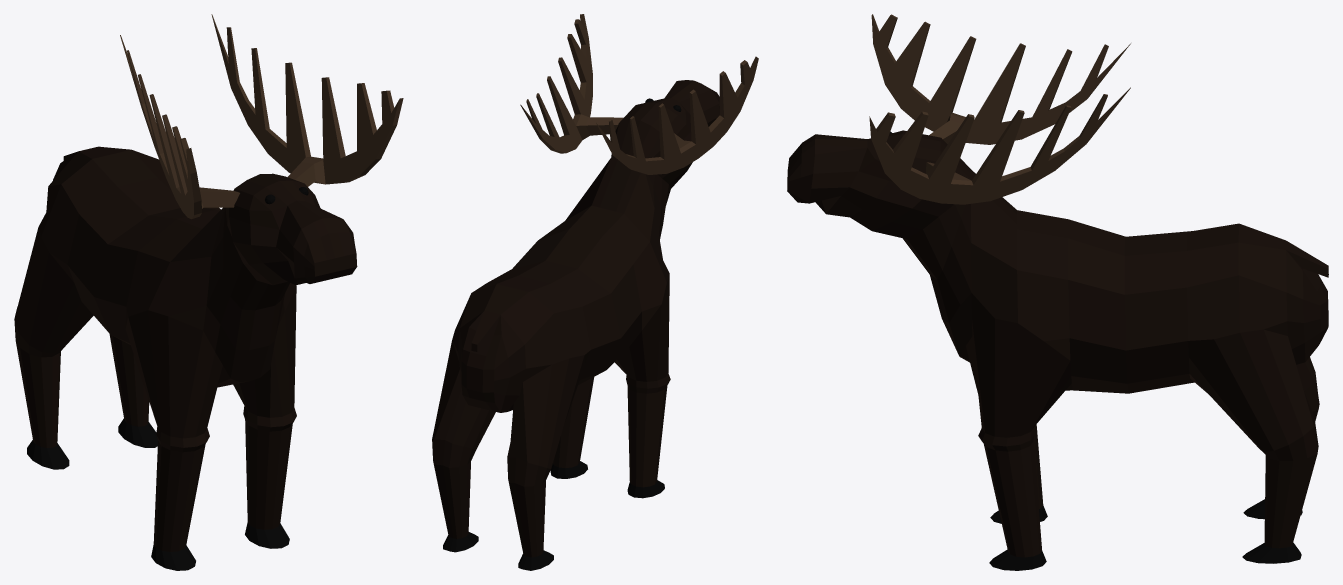
File: Moose.obj
3 views of the same model, side by side, from view 1: azimuth 30°, elevation 25°; view 2: azimuth 150°, elevation 25°; view 3: azimuth 270°, elevation 25° (orthographic). The views are drawn at different scales.
Visible parts, largest first — view 1: Plane, Plane.002_Plane.003, Plane.001_Plane.002; view 2: Plane, Plane.001_Plane.002, Plane.002_Plane.003; view 3: Plane, Plane.001_Plane.002, Plane.002_Plane.003.
Boxes of the visible parts, x1,y1,x2,y2 form: Plane: (14, 146, 357, 570); Plane.002_Plane.003: (211, 14, 403, 186); Plane.001_Plane.002: (120, 35, 239, 219); Plane: (432, 80, 719, 570); Plane.001_Plane.002: (596, 56, 758, 174); Plane.002_Plane.003: (520, 14, 623, 153); Plane: (787, 130, 1328, 570); Plane.001_Plane.002: (871, 14, 1130, 144); Plane.002_Plane.003: (869, 87, 1130, 204).
Size of the model in its own units: 1.9 by 4.06 by 4.17.
